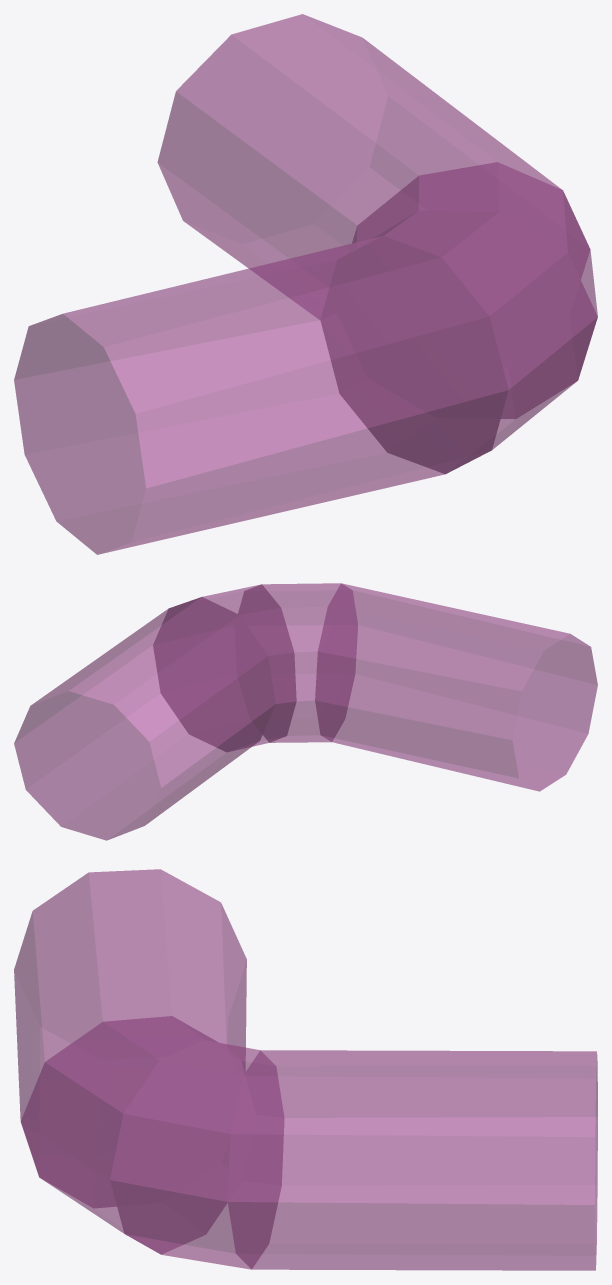
The model's file is SM_Bld_Pipe_Large_Group_Turn_02_Collision.fbx.
3 renders of one model, top to bottom at view 1: azimuth 30°, elevation 25°; view 2: azimuth 150°, elevation 25°; view 3: azimuth 270°, elevation 25°, orthographic. The views are drawn at different scales.
Visible parts, largest first — view 1: SM_Bld_Pipe_Large_Group_Turn_02_Collision; view 2: SM_Bld_Pipe_Large_Group_Turn_02_Collision; view 3: SM_Bld_Pipe_Large_Group_Turn_02_Collision.
Part boxes in pixels (x1,y1,x2,y2): SM_Bld_Pipe_Large_Group_Turn_02_Collision: (14,14,597,554); SM_Bld_Pipe_Large_Group_Turn_02_Collision: (14,583,597,840); SM_Bld_Pipe_Large_Group_Turn_02_Collision: (14,869,597,1270).
Bounding box in the file's own units: 324 × 119 × 325.
